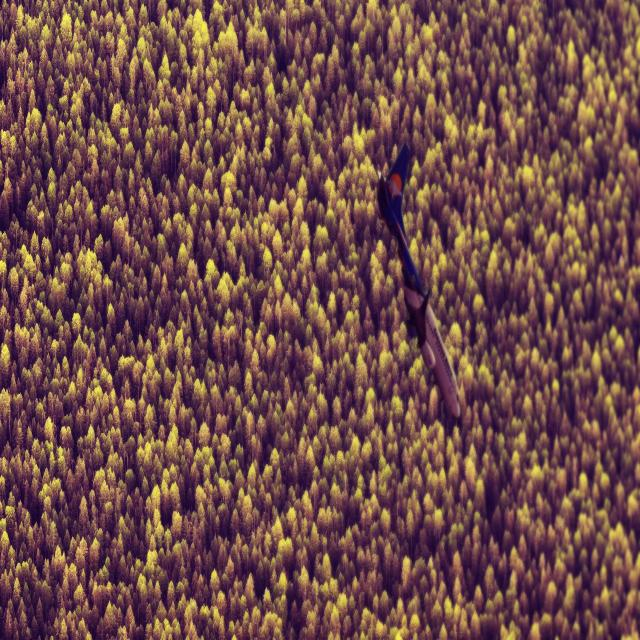airplane: (375, 141, 461, 420)
